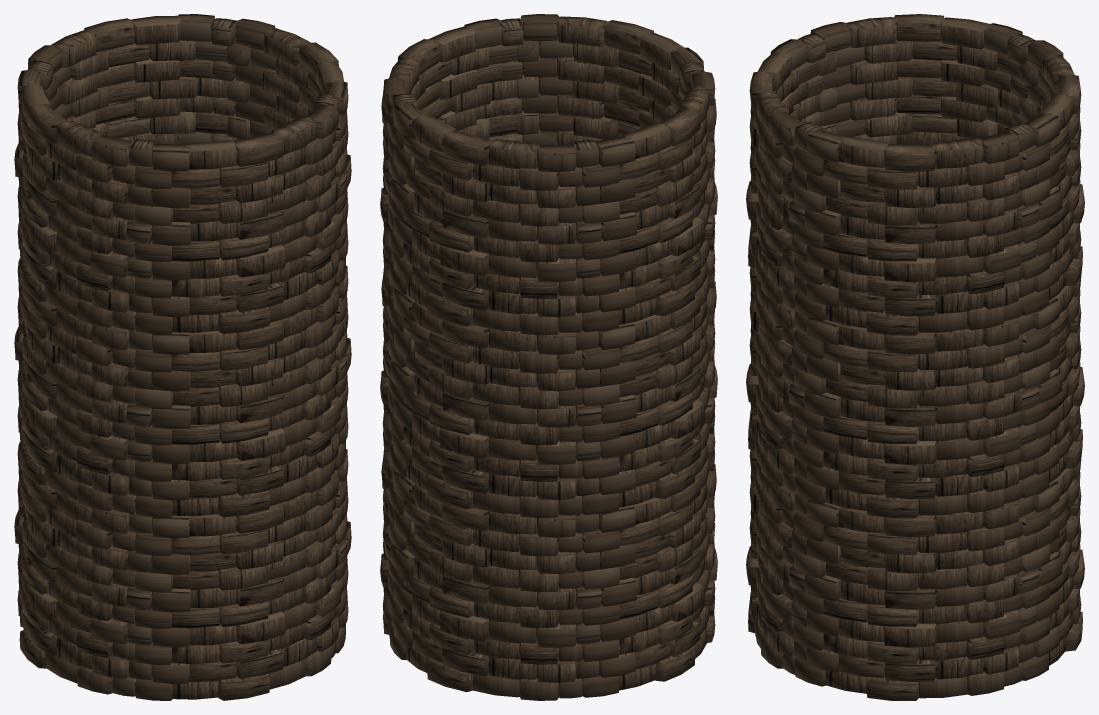
File: Torre_Big.fbx
3 views of the same model, side by side, from view 1: azimuth 30°, elevation 25°; view 2: azimuth 150°, elevation 25°; view 3: azimuth 270°, elevation 25° (orthographic).
Visible parts, largest first — view 1: Object113; view 2: Object113; view 3: Object113.
Part boxes in pixels (left/top/right/bottom): Object113: left=14, top=14, right=351, bottom=700; Object113: left=380, top=14, right=717, bottom=700; Object113: left=746, top=14, right=1084, bottom=700.
Bounding box in the file's own units: 736 × 1321 × 736.
